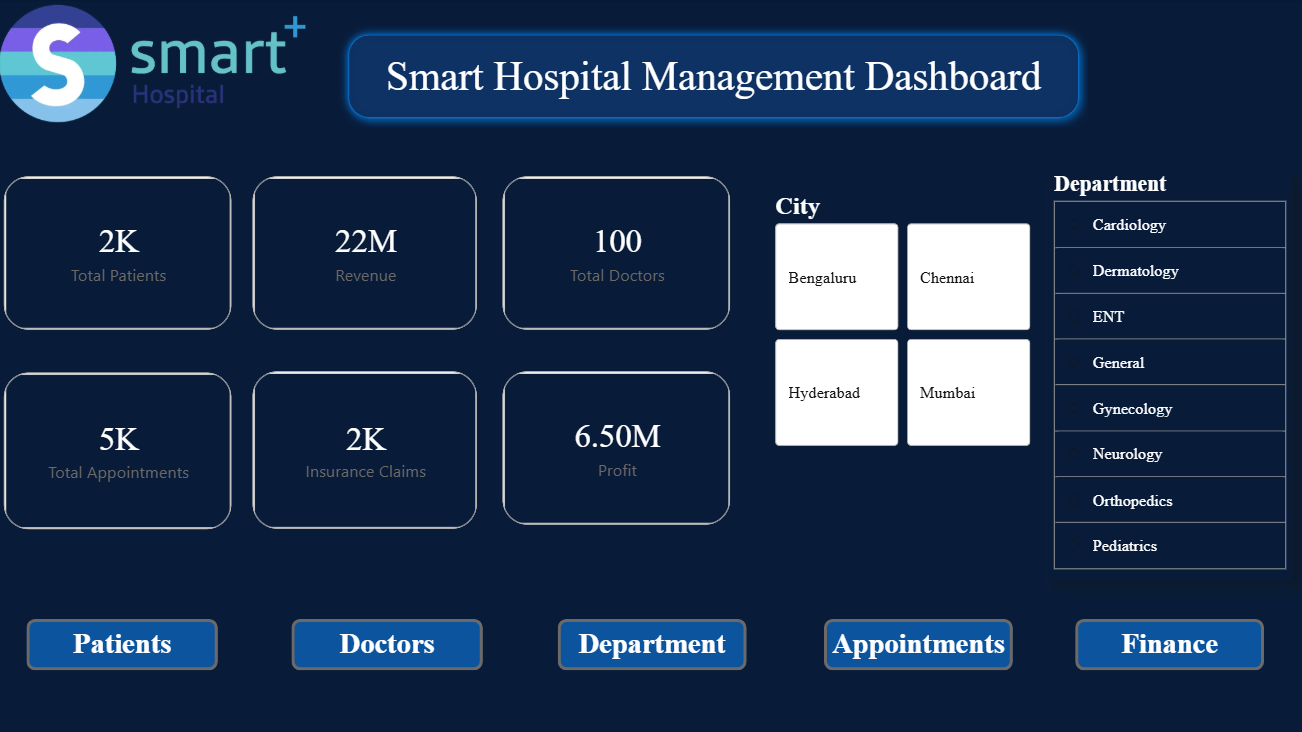

What the dashboard file says about the page in this screenshot:
{"tool":"powerbi","page":{"name":"Home","canvas":[1280,720],"ordinal":0},"visuals":[{"type":"shape","box":[333.4,26.1,735.5,100.2],"z":0},{"type":"image","box":[0,0,300.5,126.2],"z":1000},{"type":"advancedSlicerVisual","fields":{"Values":["Appointments.Department"]},"box":[1030.7,169.3,238,400],"z":2000},{"type":"advancedSlicerVisual","fields":{"Values":["Patients.City"]},"box":[757.1,189,260.1,255.2],"z":3000},{"type":"cardVisual","fields":{"Data":["Patients.Total Patients"]},"box":[0,169.3,233.1,160.7],"z":4000},{"type":"cardVisual","fields":{"Data":["Patients.Revenue"]},"box":[244.2,169.3,230.7,160.7],"z":5000},{"type":"cardVisual","fields":{"Data":["Doctors.Total Doctors"]},"box":[489.6,169.3,233.1,160.7],"z":6000},{"type":"cardVisual","fields":{"Data":["Doctors.Total Appointments"]},"box":[0,362,233.1,163.2],"z":7000},{"type":"cardVisual","fields":{"Data":["Patients.Insurance Claims"]},"box":[244.2,360.7,230.7,164.4],"z":8000},{"type":"actionButton","box":[27,608.6,187.7,50.3],"z":9000},{"type":"actionButton","box":[287.1,608.6,187.7,50.3],"z":10000},{"type":"actionButton","box":[548.5,608.6,185.3,50.3],"z":11000},{"type":"actionButton","box":[1056.4,608.6,185.3,50.3],"z":12000},{"type":"actionButton","box":[809.8,608.6,185.3,50.3],"z":13000},{"type":"cardVisual","fields":{"Data":["Appointments.Profit"]},"box":[489.6,360.7,233.1,160.7],"z":14000}]}

Visuals, with their boxes in screenshot pixels (x1, y1, x2, y2), scaled from the page's 1280x720 canvas onto the 1302x732 screenshot:
shape: [339,27,1087,128]
image: [0,0,306,128]
advancedSlicerVisual - Appointments.Department: [1048,172,1291,579]
advancedSlicerVisual - Patients.City: [770,192,1035,452]
cardVisual - Patients.Total Patients: [0,172,237,336]
cardVisual - Patients.Revenue: [248,172,483,336]
cardVisual - Doctors.Total Doctors: [498,172,735,336]
cardVisual - Doctors.Total Appointments: [0,368,237,534]
cardVisual - Patients.Insurance Claims: [248,367,483,534]
actionButton: [27,619,218,670]
actionButton: [292,619,483,670]
actionButton: [558,619,746,670]
actionButton: [1075,619,1263,670]
actionButton: [824,619,1012,670]
cardVisual - Appointments.Profit: [498,367,735,530]
